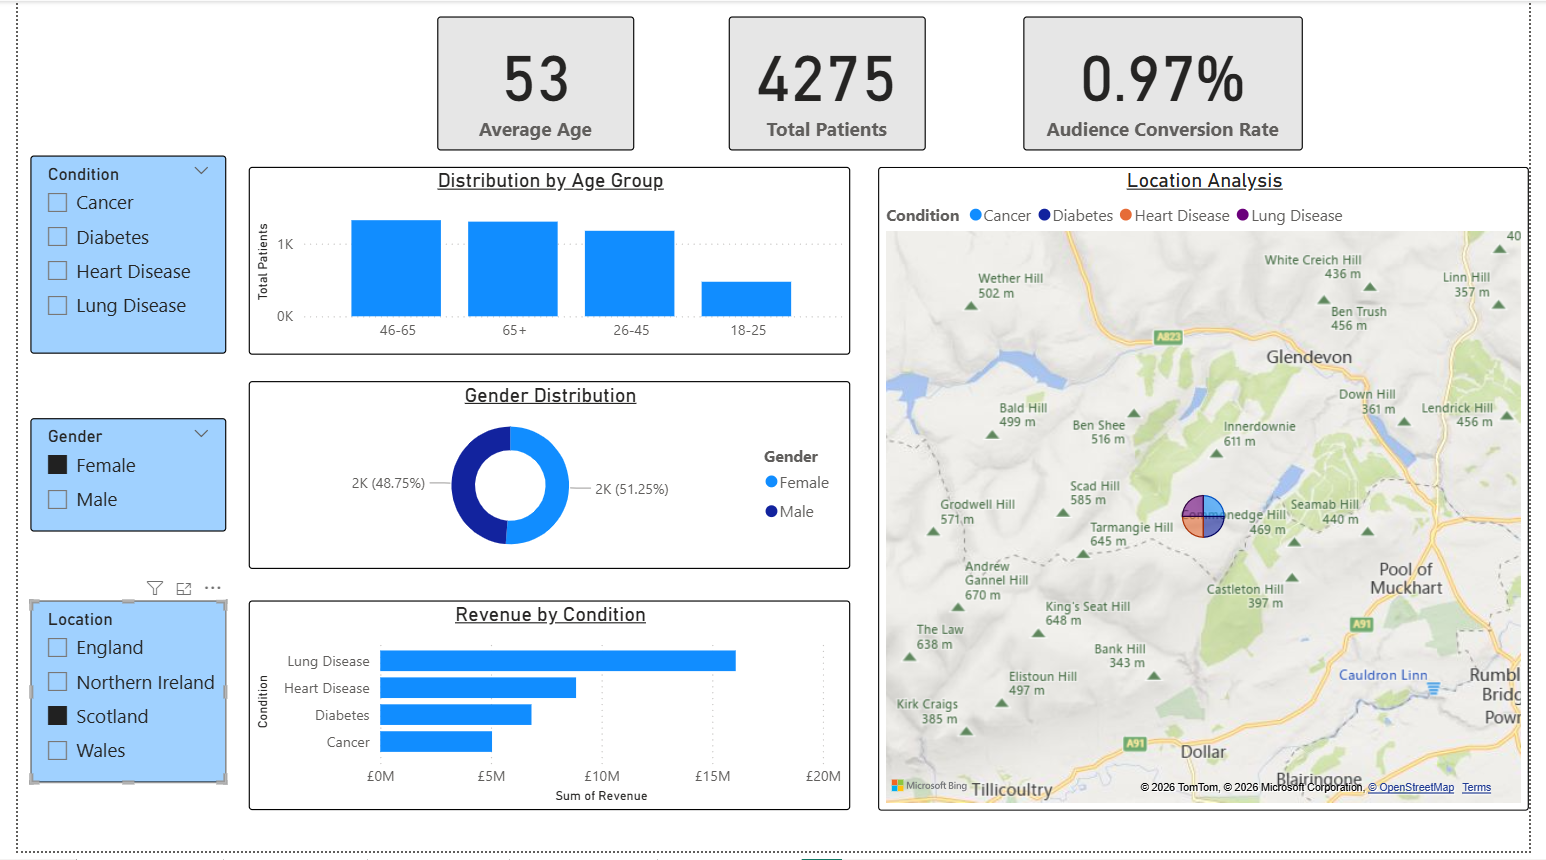

Layout of this report page (visuals, bound fields, positions):
{"tool":"powerbi","page":{"name":"Audience Insights","canvas":[1280,720],"ordinal":2},"visuals":[{"type":"slicer","fields":{"Values":["clean_audience(in).Condition"]},"box":[10.5,130.9,165.8,168.4],"z":0},{"type":"slicer","fields":{"Values":["clean_audience(in).Gender"]},"box":[10.5,353.5,165.8,96],"z":1000},{"type":"slicer","fields":{"Values":["clean_audience(in).Location"]},"box":[10.5,507.9,165.8,154.5],"z":2000},{"type":"card","fields":{"Values":["Measure.Average Age"]},"box":[355.6,13.4,166.6,113.7],"z":3000},{"type":"card","fields":{"Values":["Measure.Total Patients"]},"box":[601.9,13.4,166.6,113.7],"z":4000},{"type":"card","fields":{"Values":["Measure.Audience Conversion Rate"]},"box":[851.7,13.4,236.4,113.7],"z":5000},{"type":"clusteredColumnChart","title":"Distribution by Age Group","fields":{"Category":["Dashboard_Data(in).Age Group"],"Y":["Measure.Total Patients"]},"box":[195.5,140.5,509.7,158.8],"z":6000},{"type":"donutChart","title":"Gender Distribution","fields":{"Category":["Dashboard_Data(in).Gender"],"Y":["Measure.Total Patients"]},"box":[195.5,322,509.7,158.8],"z":7000},{"type":"clusteredBarChart","title":"Revenue by Condition","fields":{"Category":["Dashboard_Data(in).Condition"],"Y":["Sum(Dashboard_Data(in).Revenue)"]},"box":[195.5,507.9,509.7,178],"z":7001},{"type":"map","title":"Location Analysis","fields":{"Category":["clean_audience(in).Location"],"Size":["Measure.Total Revenue"],"Series":["Dashboard_Data(in).Condition"]},"box":[728.8,140.5,551.6,545.5],"z":7002}]}

Visuals, with their boxes in screenshot pixels (x1, y1, x2, y2), scaled from the page's 1280x720 canvas onto the 1546x860 screenshot:
slicer - clean_audience(in).Condition: (x1=13, y1=156, x2=213, y2=357)
slicer - clean_audience(in).Gender: (x1=13, y1=422, x2=213, y2=537)
slicer - clean_audience(in).Location: (x1=13, y1=607, x2=213, y2=791)
card - Measure.Average Age: (x1=429, y1=16, x2=631, y2=152)
card - Measure.Total Patients: (x1=727, y1=16, x2=928, y2=152)
card - Measure.Audience Conversion Rate: (x1=1029, y1=16, x2=1314, y2=152)
"Distribution by Age Group" clusteredColumnChart: (x1=236, y1=168, x2=852, y2=357)
"Gender Distribution" donutChart: (x1=236, y1=385, x2=852, y2=574)
"Revenue by Condition" clusteredBarChart: (x1=236, y1=607, x2=852, y2=819)
"Location Analysis" map: (x1=880, y1=168, x2=1545, y2=819)
